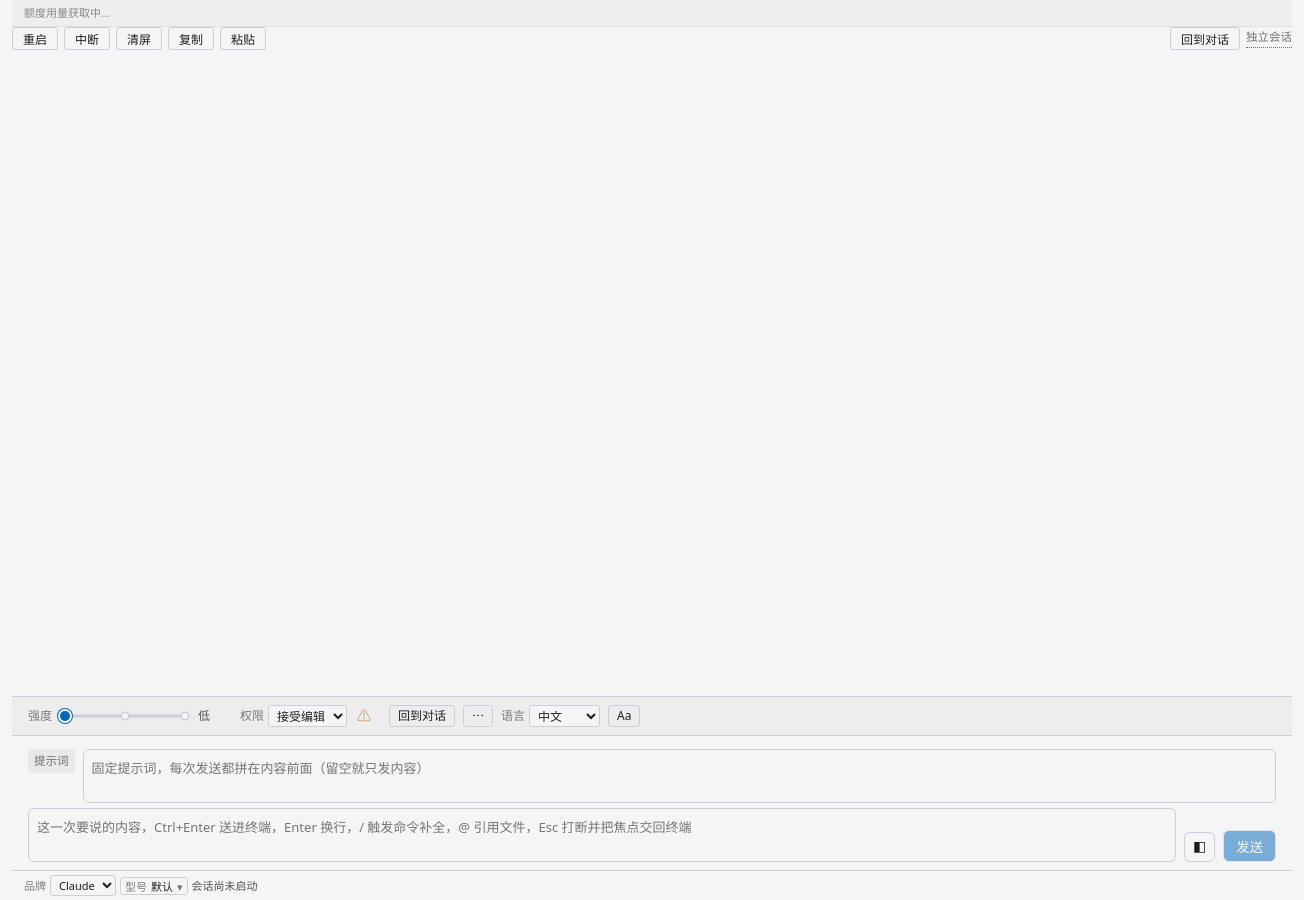
App：终端视图 › 按钮上的字跟着当前在哪一边变
This screenshot has width=1304, height=900.
Click the button "回到对话" next to "独立会话" at (1205, 38), box top-left (1170, 27), bottom-right (1240, 50)
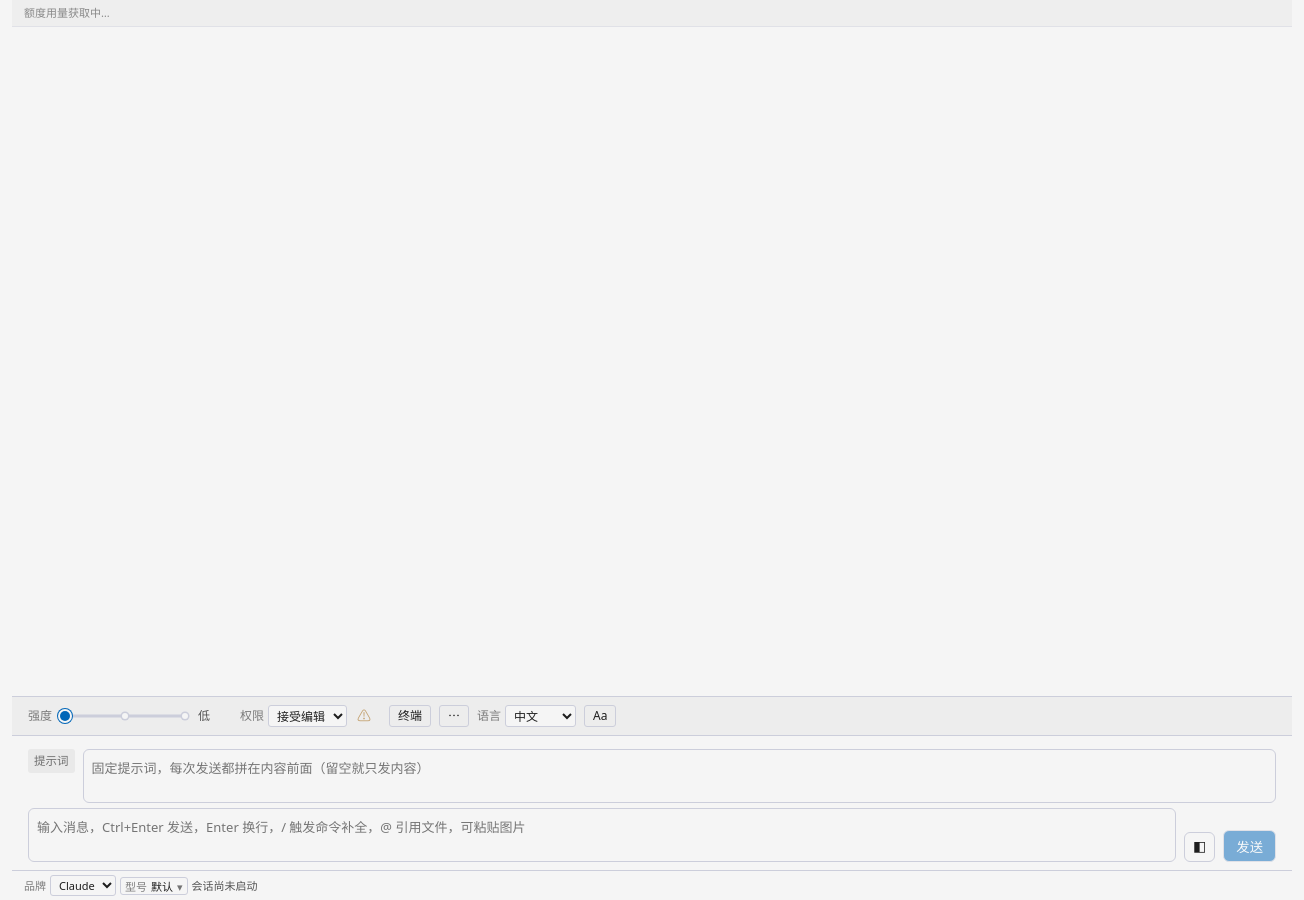
Click the button "终端" at (410, 716), box top-left (389, 705), bottom-right (431, 727)
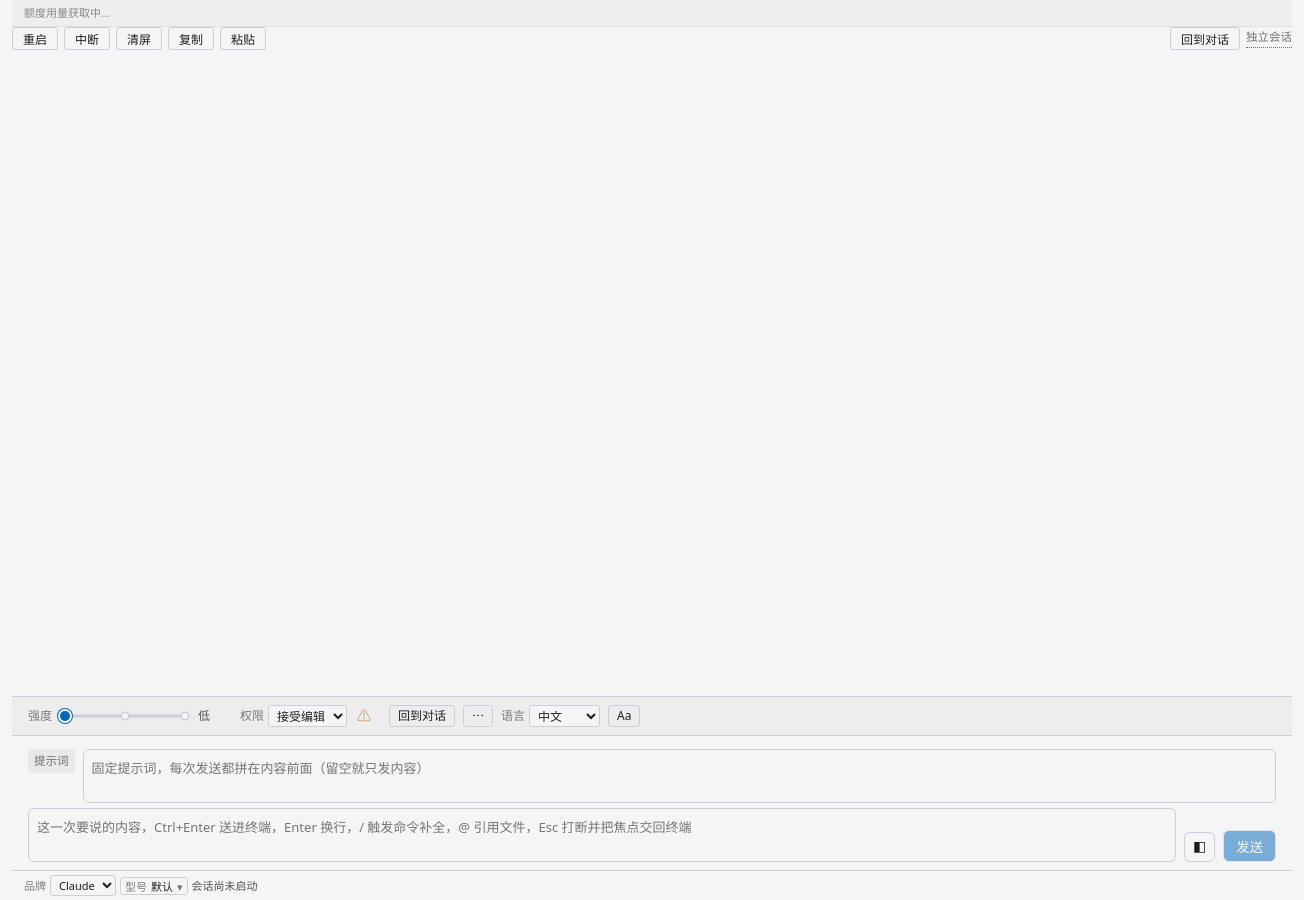
Expected: the button "回到对话" next to "独立会话" is shown, top-left (1170, 27), bottom-right (1240, 50)
